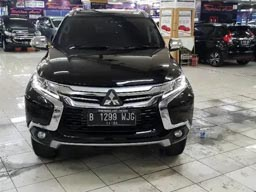plat: (88, 110, 136, 121)
